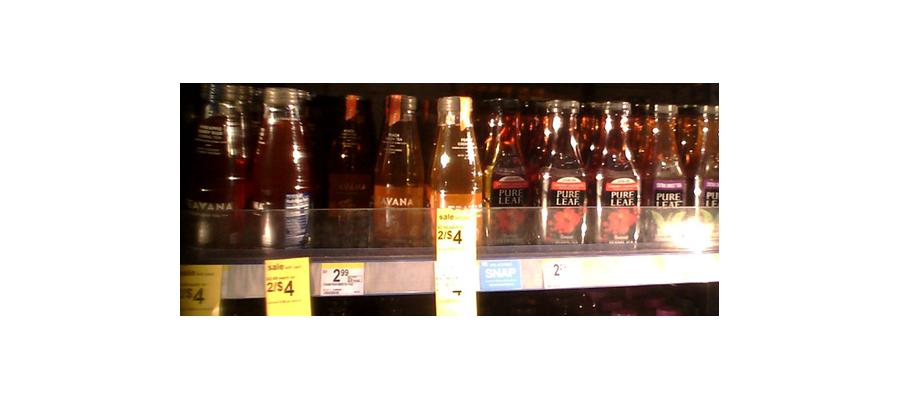bottle: (429, 91, 482, 298), (251, 81, 313, 248), (191, 78, 249, 251), (372, 88, 426, 250), (484, 98, 539, 246), (318, 87, 369, 245), (592, 94, 641, 247), (540, 94, 589, 241), (647, 96, 688, 237)
